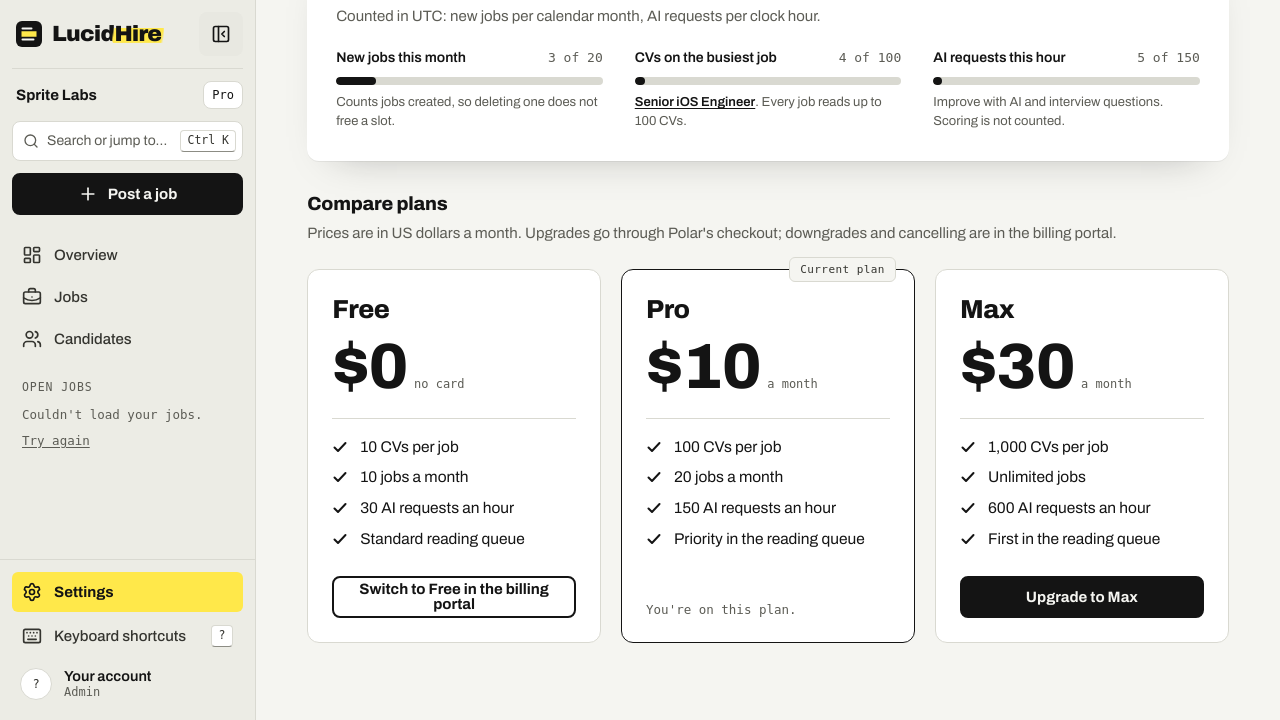
it: Plan & billing › changes a paying company's plan in place and waits until it shows
(page scrolled)
Click the button "Upgrade to Max": (1082, 597) [960, 576, 1204, 618]
(page scrolled)
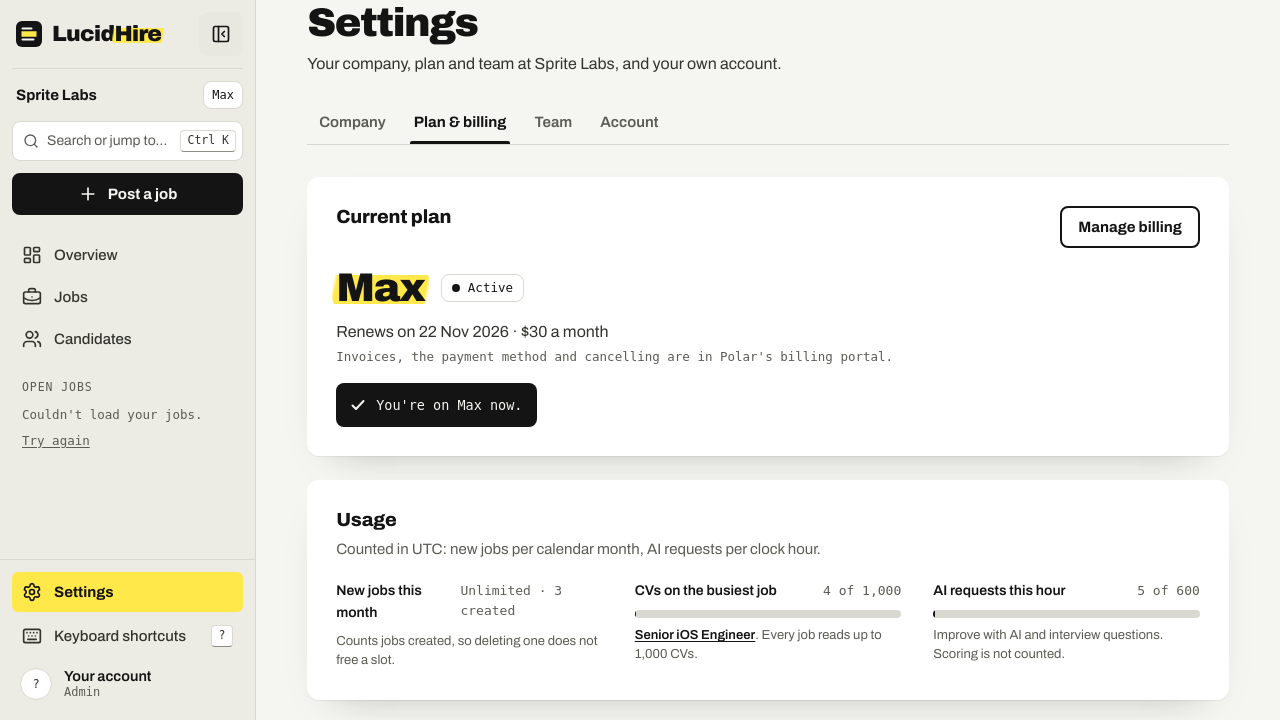
Now the text "You're on Max now." is shown, box [336, 383, 536, 427]
